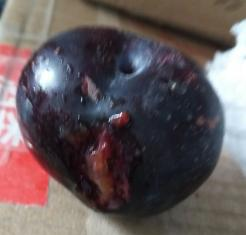plum_C: (16, 26, 227, 218)
